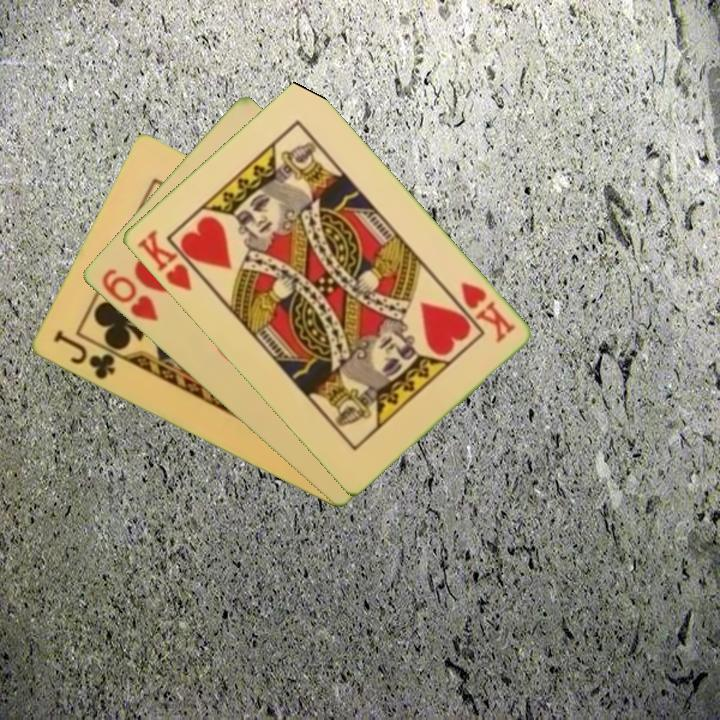6h: (97, 265, 161, 325)
Jc: (49, 327, 118, 383)
Kh: (132, 226, 208, 294), (456, 278, 518, 346)
